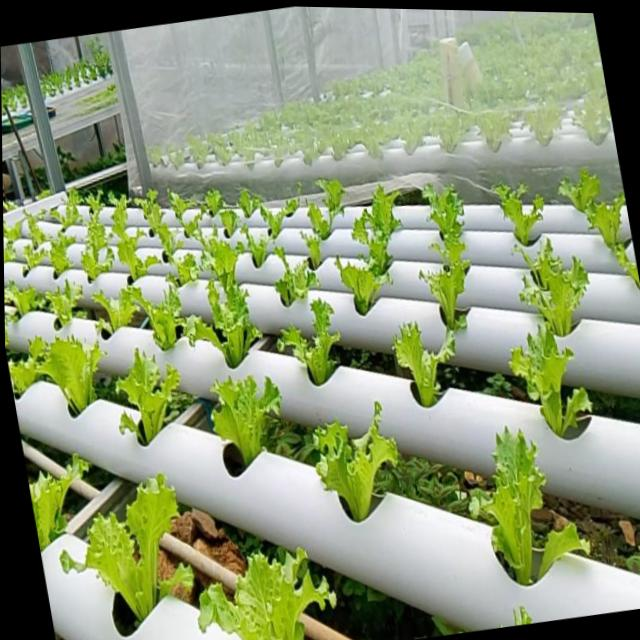Baby: (61, 470, 193, 615), (199, 546, 334, 640), (468, 427, 541, 584), (312, 403, 397, 522), (506, 326, 586, 439), (418, 189, 468, 342), (210, 377, 280, 476), (515, 243, 584, 340), (116, 350, 180, 445), (38, 333, 105, 414), (277, 302, 339, 387), (120, 282, 194, 352), (391, 325, 452, 409), (351, 190, 398, 278), (579, 198, 627, 271), (258, 251, 317, 310), (333, 261, 390, 318), (489, 188, 540, 250), (79, 198, 113, 283), (199, 232, 243, 294), (49, 190, 80, 230), (47, 233, 72, 276), (172, 254, 198, 287), (23, 213, 45, 250), (178, 212, 201, 242)
